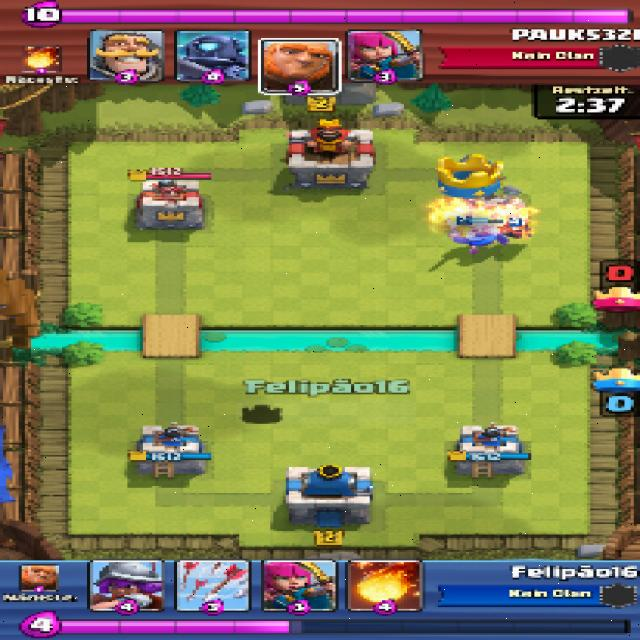Player-Knight: (442, 225, 512, 252)
